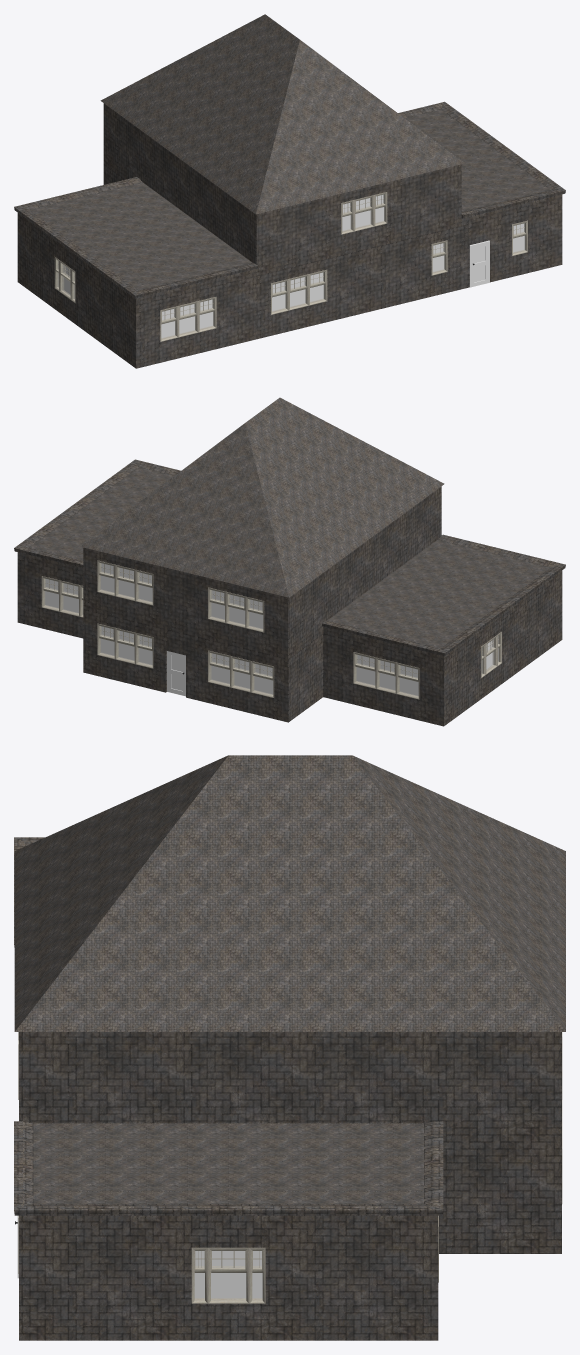
The model's file is RandomHouseOutside03.fbx.
3 renders of one model, top to bottom at view 1: azimuth 30°, elevation 25°; view 2: azimuth 150°, elevation 25°; view 3: azimuth 270°, elevation 25°, orthographic. The views are drawn at different scales.
Parts seen in each view (by area): view 1: Slanted Roof, Outside Plain Wall (Floor 1), Outside Plain Wall (Floor 2), Roof, FancyWindow_stretched (×11), Roof Lips Plain (Floor 1), BuildingFiller (×2), Outside Plain RoofWall (Floor 1), generic_door; view 2: Slanted Roof, Outside Plain Wall (Floor 1), Outside Plain Wall (Floor 2), Roof, FancyWindow_stretched (×17), BuildingFiller (×2), Roof Lips Plain (Floor 1), Outside Plain RoofWall (Floor 1), generic_door; view 3: Slanted Roof, Outside Plain Wall (Floor 1), Outside Plain Wall (Floor 2), Roof, Roof Lips Plain (Floor 1), Outside Plain RoofWall (Floor 1), FancyWindow_stretched (×3), BuildingFiller.
Part boxes in pixels (x1,y1,x2,y2): Slanted Roof: (100, 14, 464, 214); Outside Plain Wall (Floor 1): (17, 164, 562, 368); Outside Plain Wall (Floor 2): (103, 103, 461, 275); Roof: (29, 109, 550, 290); FancyWindow_stretched (×11): (160, 192, 527, 341); Roof Lips Plain (Floor 1): (14, 101, 565, 298); BuildingFiller (×2): (64, 195, 524, 337); Outside Plain RoofWall (Floor 1): (17, 194, 562, 305); generic_door: (469, 240, 489, 287); Slanted Roof: (80, 397, 444, 597); Outside Plain Wall (Floor 1): (17, 559, 562, 726); Outside Plain Wall (Floor 2): (83, 486, 441, 659); Roof: (29, 467, 550, 647); FancyWindow_stretched (×17): (41, 560, 419, 699); BuildingFiller (×2): (45, 563, 492, 695); Roof Lips Plain (Floor 1): (14, 459, 565, 656); Outside Plain RoofWall (Floor 1): (17, 552, 562, 663); generic_door: (167, 651, 185, 696); Slanted Roof: (14, 755, 565, 1031); Outside Plain Wall (Floor 1): (19, 1142, 561, 1340); Outside Plain Wall (Floor 2): (19, 1032, 561, 1141); Roof: (33, 1123, 423, 1204); Roof Lips Plain (Floor 1): (14, 837, 443, 1215); Outside Plain RoofWall (Floor 1): (19, 1215, 438, 1228); FancyWindow_stretched (×3): (191, 1247, 265, 1303); BuildingFiller: (194, 1251, 262, 1297).
Size of the model in its own units: 21.44 by 11 by 13.42.
